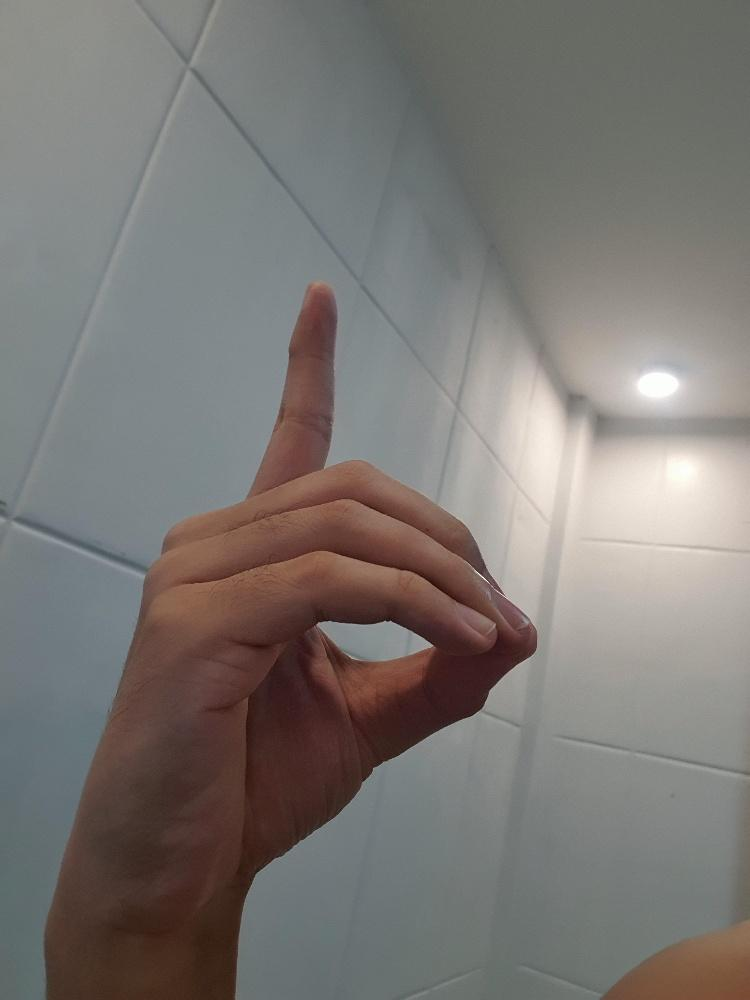d: (71, 274, 540, 931)
